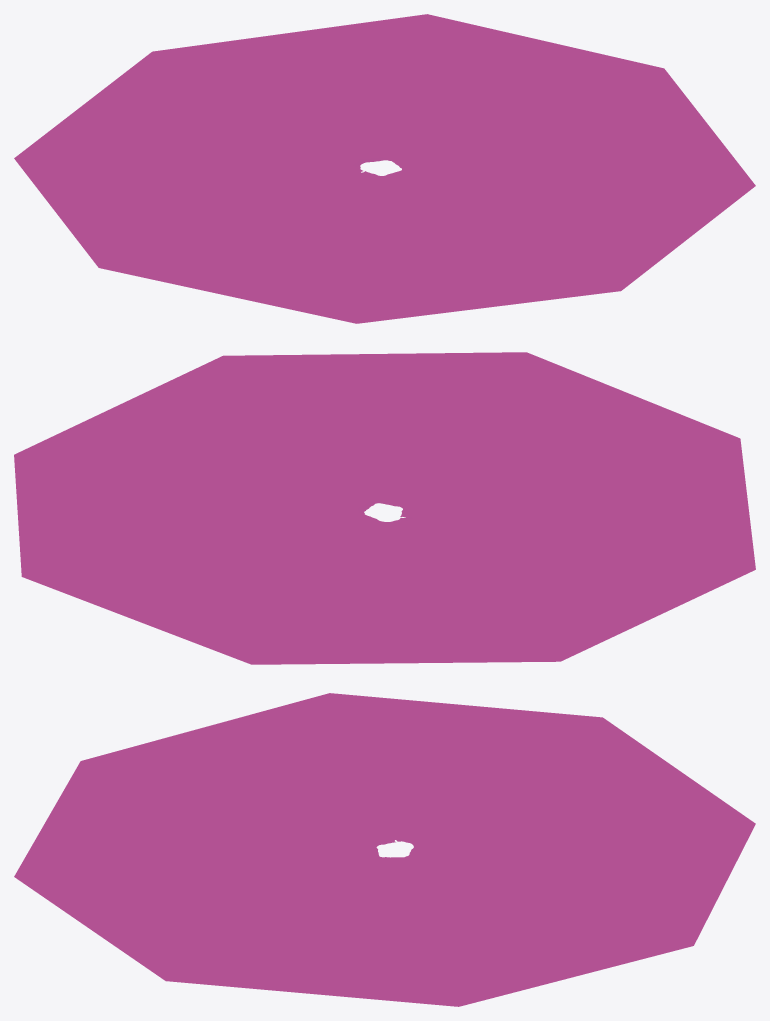
File: cluster0.fbx
3 views of the same model, one above another, from view 1: azimuth 30°, elevation 25°; view 2: azimuth 150°, elevation 25°; view 3: azimuth 270°, elevation 25° (orthographic). The views are drawn at different scales.
Visible parts, largest first — view 1: cluster0; view 2: cluster0; view 3: cluster0.
Boxes of the visible parts, x1,y1,x2,y2 form: cluster0: [14, 14, 755, 323]; cluster0: [14, 352, 755, 664]; cluster0: [14, 693, 755, 1006].
Bounding box in the file's own units: 2.73e+07 × 6456 × 2.73e+07.
